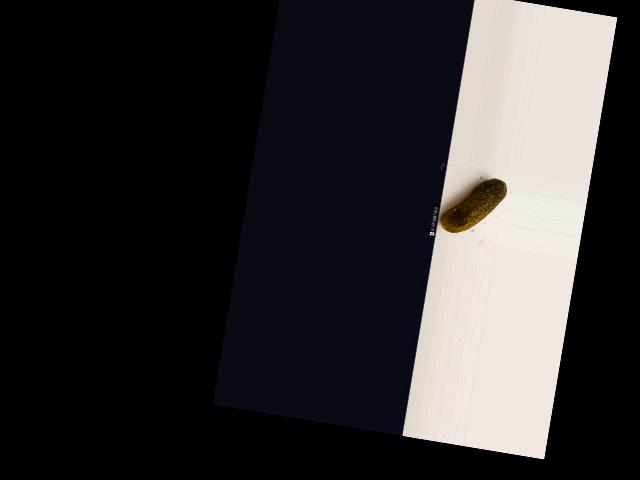cucumber: (439, 170, 507, 240)
